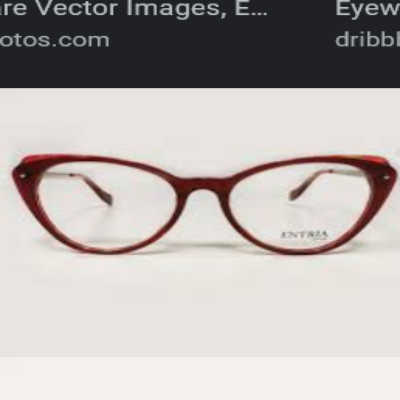glasses: (12, 149, 398, 256)
